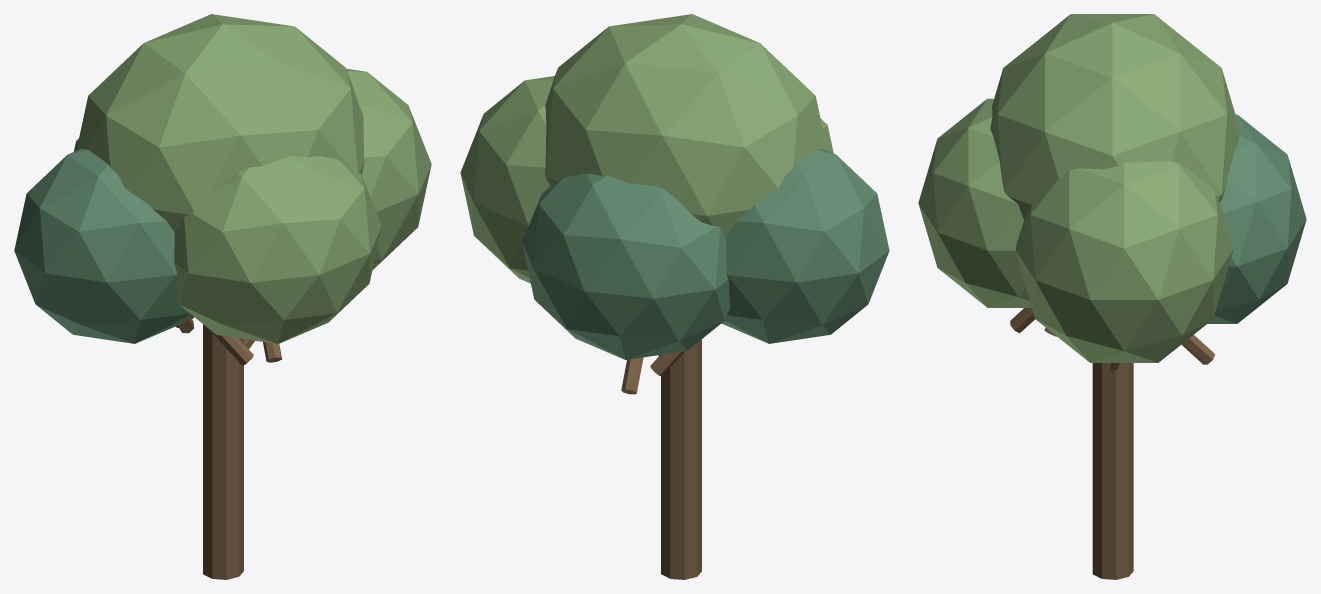
The model's file is tree.glb.
The picture shows the model from 3 angles, left to right: view 1: azimuth 30°, elevation 25°; view 2: azimuth 150°, elevation 25°; view 3: azimuth 270°, elevation 25°; orthographic projection.
Parts seen in each view (by area): view 1: Canopy, Canopy.004, Canopy.001, Trunk, Canopy.002, Branch.003; view 2: Canopy, Canopy.003, Canopy.001, Canopy.002, Trunk, Branch.001; view 3: Canopy.002, Canopy, Canopy.004, Canopy.003, Trunk, Branch.001.
Part boxes in pixels (bbox=[...]): Canopy: bbox=[76, 14, 364, 232]; Canopy.004: bbox=[174, 155, 381, 343]; Canopy.001: bbox=[14, 148, 191, 343]; Trunk: bbox=[203, 324, 243, 579]; Canopy.002: bbox=[346, 68, 431, 269]; Branch.003: bbox=[208, 328, 253, 365]; Canopy: bbox=[544, 14, 827, 236]; Canopy.003: bbox=[522, 173, 730, 359]; Canopy.001: bbox=[721, 148, 889, 343]; Canopy.002: bbox=[460, 76, 554, 283]; Trunk: bbox=[661, 339, 701, 579]; Branch.001: bbox=[621, 357, 643, 394]; Canopy.002: bbox=[1016, 161, 1233, 362]; Canopy: bbox=[990, 14, 1239, 219]; Canopy.004: bbox=[918, 98, 1031, 307]; Canopy.003: bbox=[1207, 114, 1306, 323]; Trunk: bbox=[1092, 363, 1133, 579]; Branch.001: bbox=[1181, 335, 1214, 364].
Bounding box in the file's own units: 3.85 × 5.14 × 3.3.
